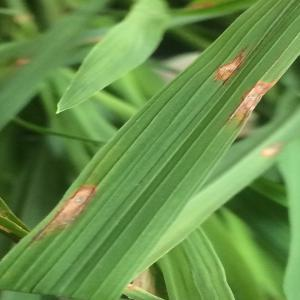1 RiceBlast: (31, 170, 115, 244), (220, 68, 281, 129), (206, 43, 258, 87)
